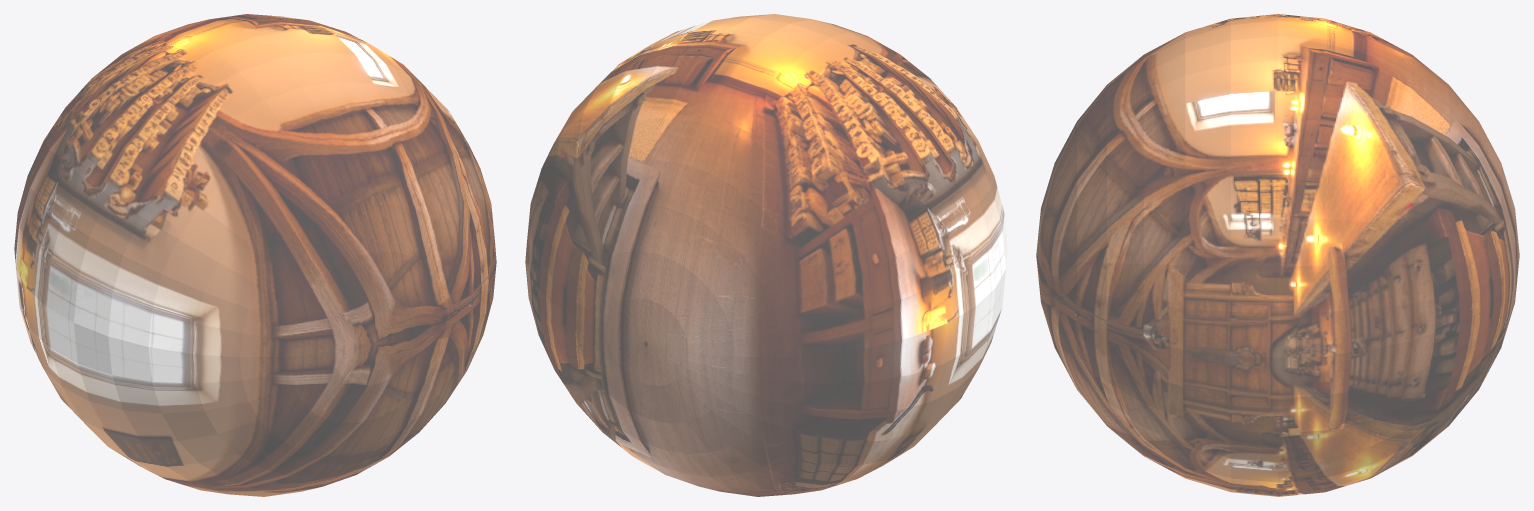
File: FIRJAN_XR_Sphere_360_02.glb
3 renders of one model, left to right at view 1: azimuth 30°, elevation 25°; view 2: azimuth 150°, elevation 25°; view 3: azimuth 270°, elevation 25°, orthographic.
Parts seen in each view (by area): view 1: Sphere_360_02; view 2: Sphere_360_02; view 3: Sphere_360_02.
Part boxes in pixels (x1,y1,x2,y2): Sphere_360_02: [14, 14, 496, 496]; Sphere_360_02: [525, 14, 1007, 496]; Sphere_360_02: [1036, 14, 1519, 496].
Bounding box in the file's own units: 20 × 20 × 20.
1 material, 1 textured.
